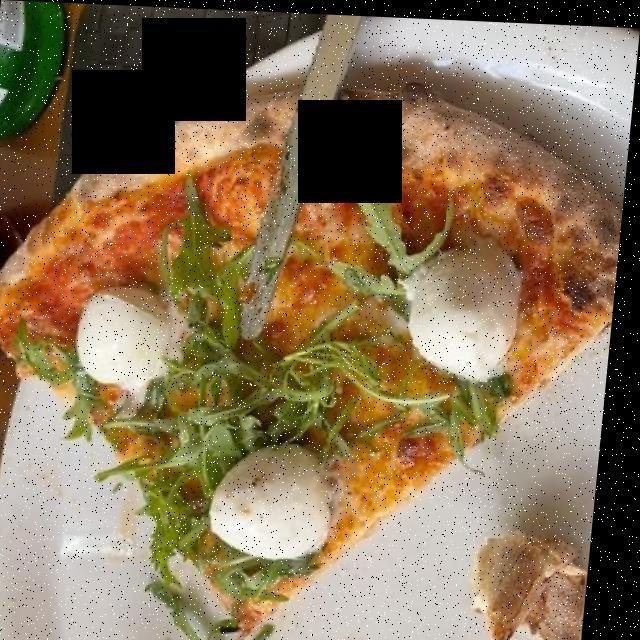cheese: (74, 239, 539, 572)
pizza: (0, 90, 605, 628)
salad: (14, 144, 509, 581)
